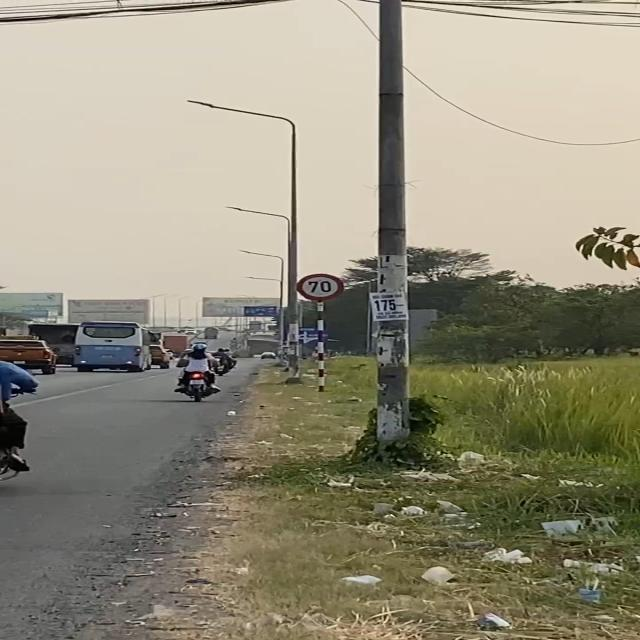127-toc-do-toi-da-70: (295, 273, 345, 302)
